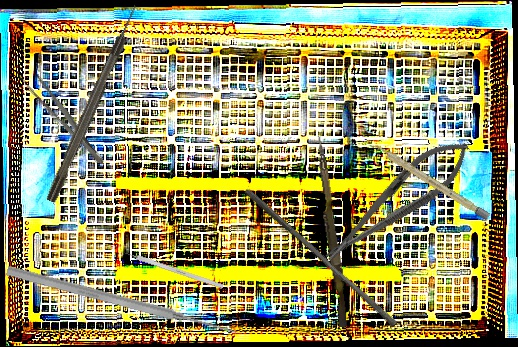Dressing Forceps: (16, 65, 110, 170)
Hook Surgical: (44, 3, 142, 204), (116, 247, 224, 290)
Needle Holder: (313, 127, 480, 275)
Pusher: (238, 187, 403, 328), (5, 263, 238, 340), (309, 135, 353, 328)
Scalpel Handle: (370, 141, 491, 221)
